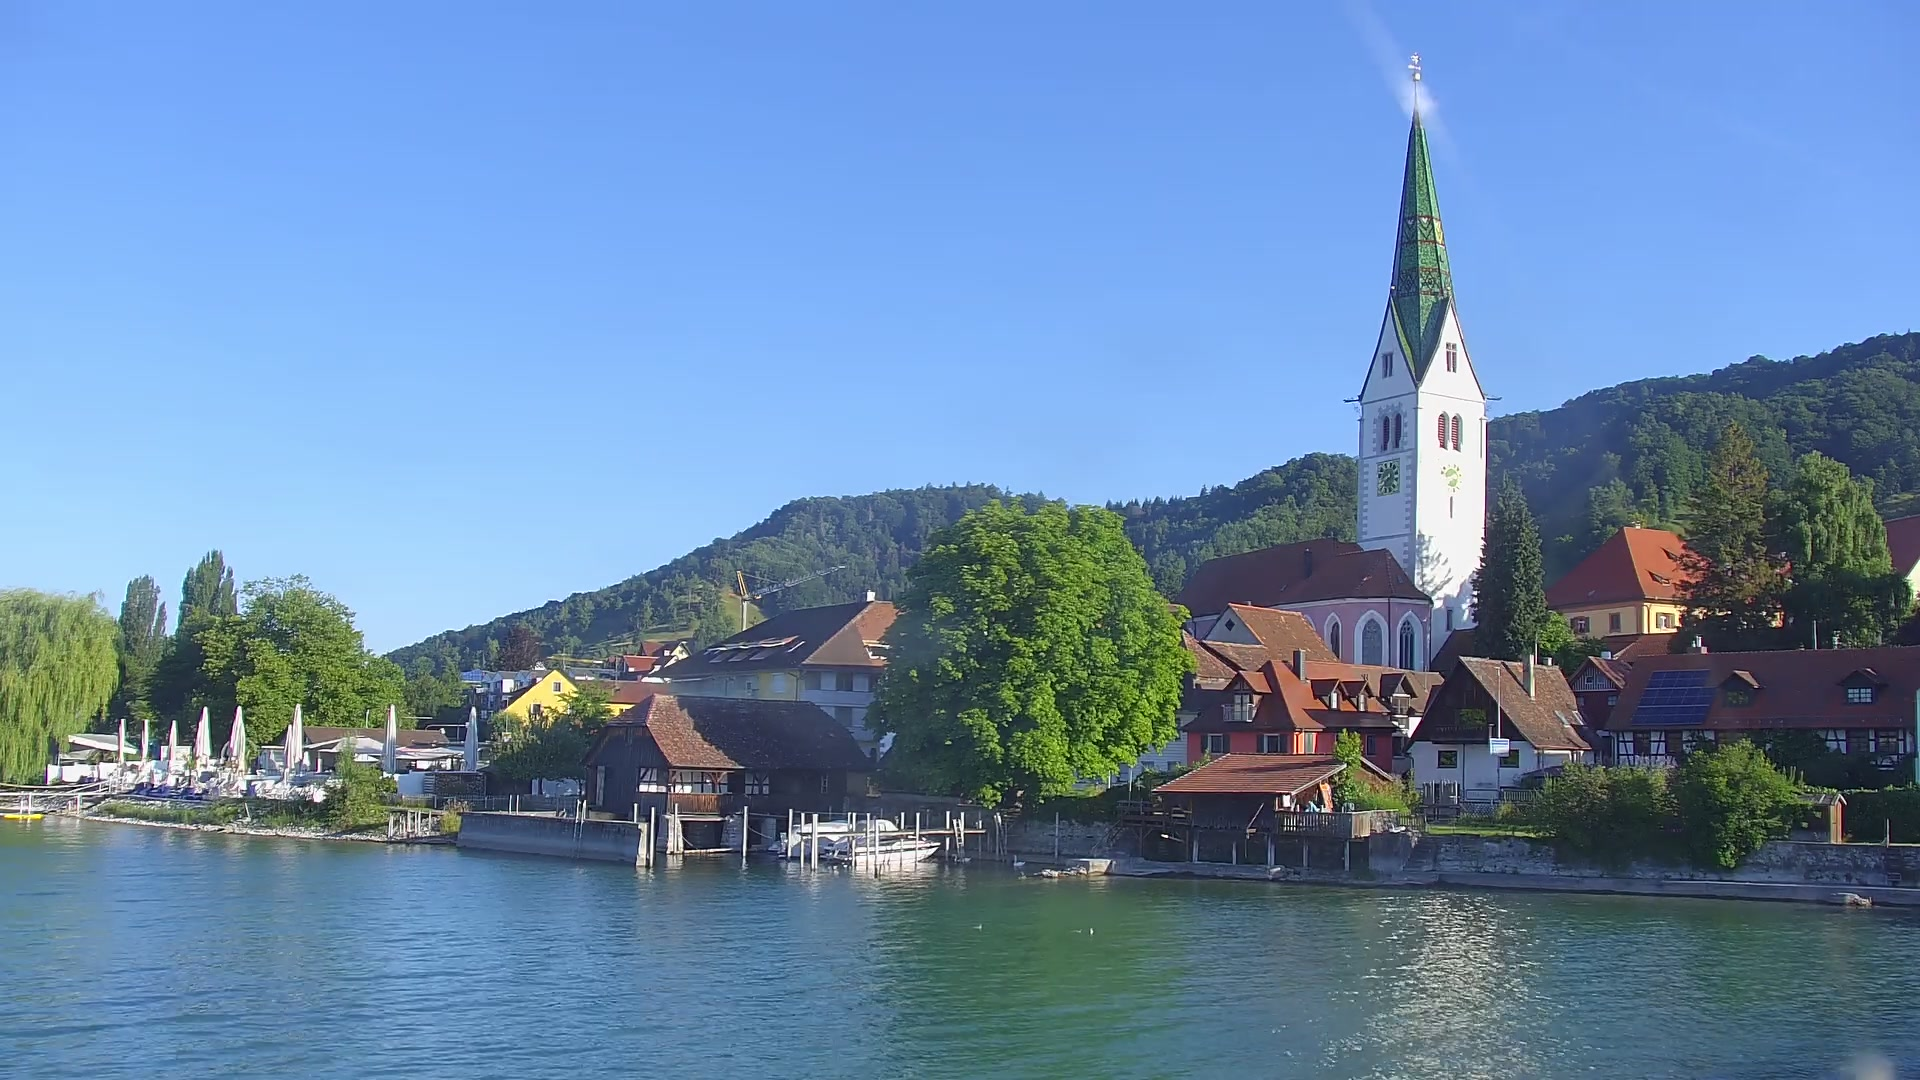sea: (822, 818, 939, 866)
